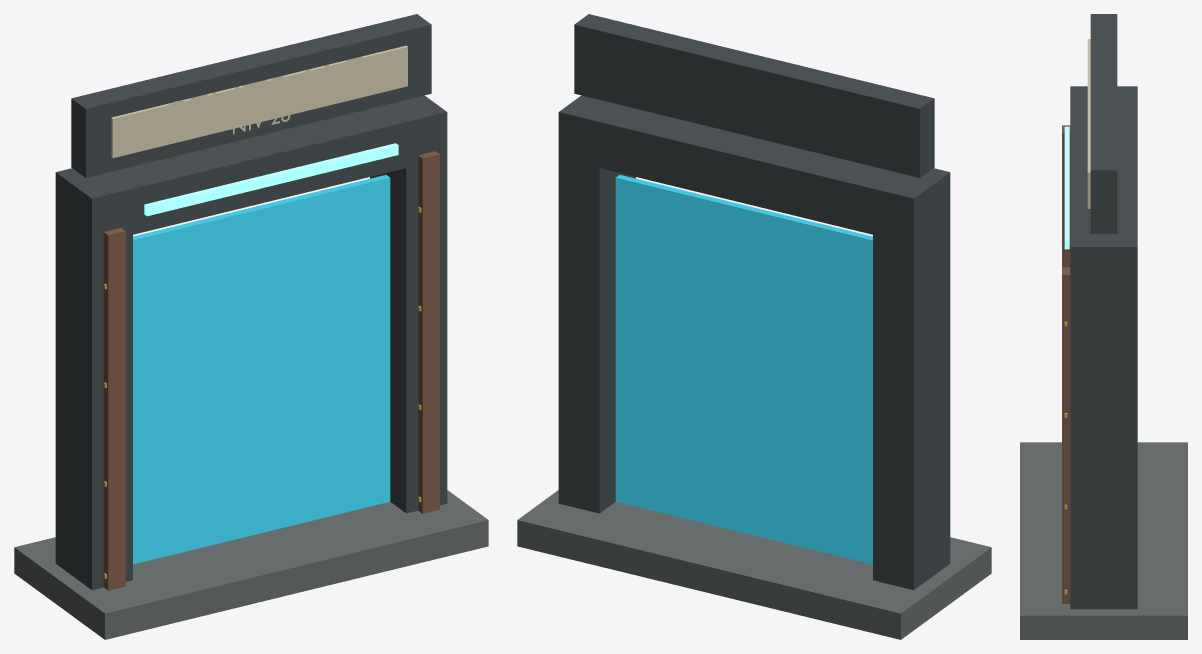
Rendered from Refuge_Portal_04_Centrale_Niv28.fbx.
The picture shows the model from 3 angles, left to right: view 1: azimuth 30°, elevation 25°; view 2: azimuth 150°, elevation 25°; view 3: azimuth 270°, elevation 25°; orthographic projection. The views are drawn at different scales.
Visible parts, largest first — view 1: Refuge_Portal_04_Centrale_Niv28_portal, Refuge_Portal_04_Centrale_Niv28_iron, Refuge_Portal_04_Centrale_Niv28_concrete_dark, Refuge_Portal_04_Centrale_Niv28_rust, Refuge_Portal_04_Centrale_Niv28_paint, Refuge_Portal_04_Centrale_Niv28_cyan, Refuge_Portal_04_Centrale_Niv28_label; view 2: Refuge_Portal_04_Centrale_Niv28_iron, Refuge_Portal_04_Centrale_Niv28_portal, Refuge_Portal_04_Centrale_Niv28_concrete_dark; view 3: Refuge_Portal_04_Centrale_Niv28_iron, Refuge_Portal_04_Centrale_Niv28_concrete_dark, Refuge_Portal_04_Centrale_Niv28_rust, Refuge_Portal_04_Centrale_Niv28_cyan, Refuge_Portal_04_Centrale_Niv28_paint.
Part boxes in pixels (box(x1,y1,x2,y2)): Refuge_Portal_04_Centrale_Niv28_portal: box(133, 175, 390, 564); Refuge_Portal_04_Centrale_Niv28_iron: box(55, 14, 447, 590); Refuge_Portal_04_Centrale_Niv28_concrete_dark: box(14, 490, 488, 639); Refuge_Portal_04_Centrale_Niv28_rust: box(103, 151, 439, 590); Refuge_Portal_04_Centrale_Niv28_paint: box(111, 45, 407, 158); Refuge_Portal_04_Centrale_Niv28_cyan: box(144, 143, 398, 216); Refuge_Portal_04_Centrale_Niv28_label: box(160, 56, 362, 132); Refuge_Portal_04_Centrale_Niv28_iron: box(558, 14, 950, 590); Refuge_Portal_04_Centrale_Niv28_portal: box(615, 175, 872, 564); Refuge_Portal_04_Centrale_Niv28_concrete_dark: box(517, 490, 991, 639); Refuge_Portal_04_Centrale_Niv28_iron: box(1070, 14, 1137, 609); Refuge_Portal_04_Centrale_Niv28_concrete_dark: box(1020, 442, 1187, 639); Refuge_Portal_04_Centrale_Niv28_rust: box(1062, 125, 1070, 603); Refuge_Portal_04_Centrale_Niv28_cyan: box(1064, 126, 1069, 249); Refuge_Portal_04_Centrale_Niv28_paint: box(1087, 39, 1090, 208).
Bounding box in the file's own units: 12.2 × 15.15 × 5.
